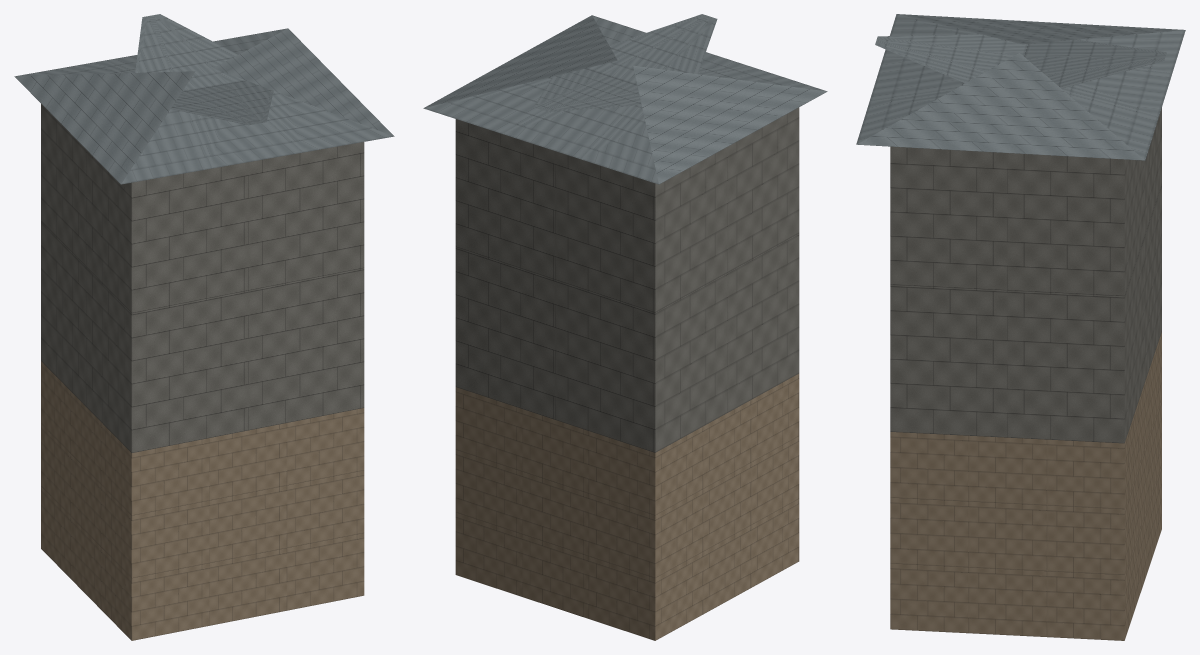
File: bld_c12_30_390.gltf
3 renders of one model, left to right at view 1: azimuth 30°, elevation 25°; view 2: azimuth 150°, elevation 25°; view 3: azimuth 270°, elevation 25°, orthographic. The views are drawn at different scales.
Parts seen in each view (by area): view 1: bld_c12_30_390; view 2: bld_c12_30_390; view 3: bld_c12_30_390.
Part boxes in pixels (x1,y1,x2,y2): bld_c12_30_390: (14, 14, 394, 640); bld_c12_30_390: (423, 14, 827, 640); bld_c12_30_390: (856, 14, 1185, 640).
Size of the model in its own units: 8.12 by 13.7 by 7.71.
Materials: 3 (3 with a texture image).
